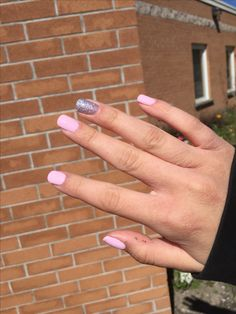nails: (72, 95, 104, 122), (51, 111, 84, 136), (99, 227, 130, 252), (43, 167, 75, 190), (132, 88, 162, 111)
